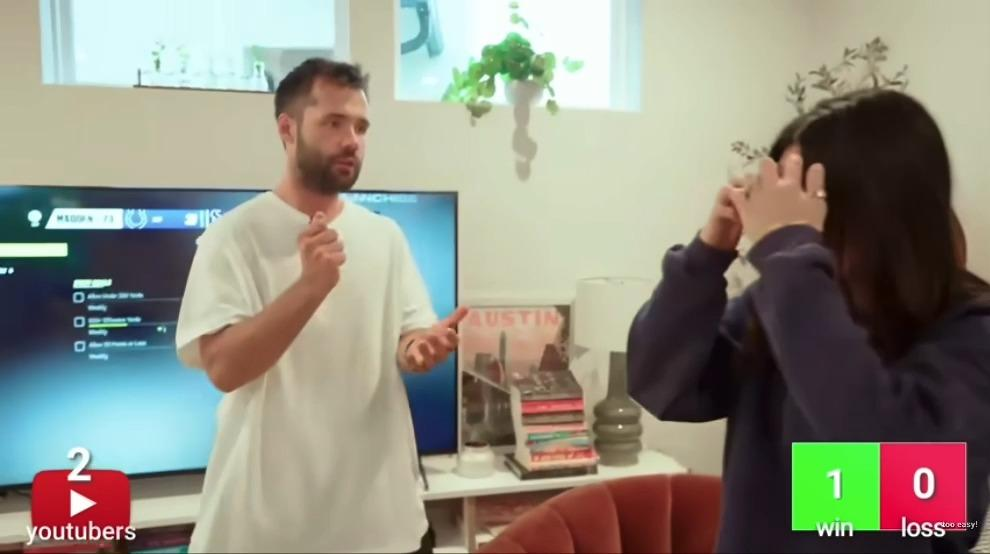Rock: (299, 209, 346, 302)
